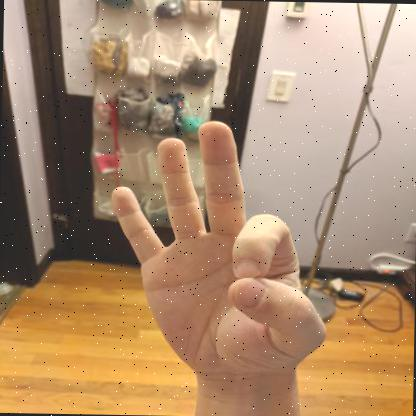F: (111, 121, 326, 382)
